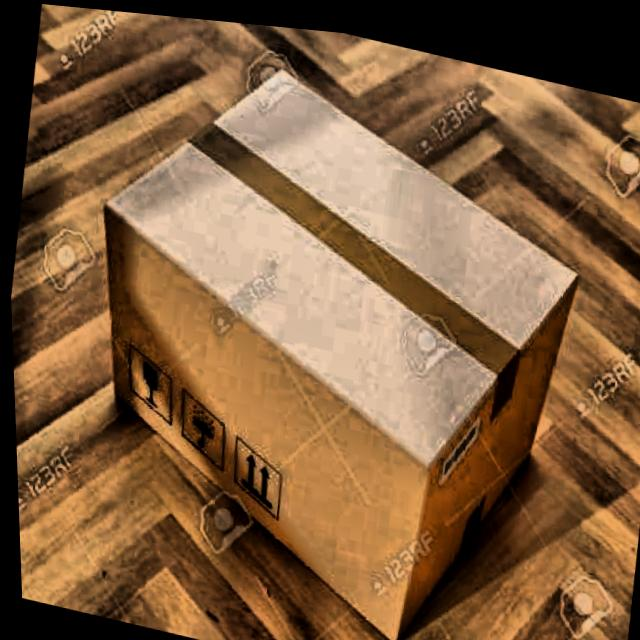Cardbox: (28, 3, 620, 640)
